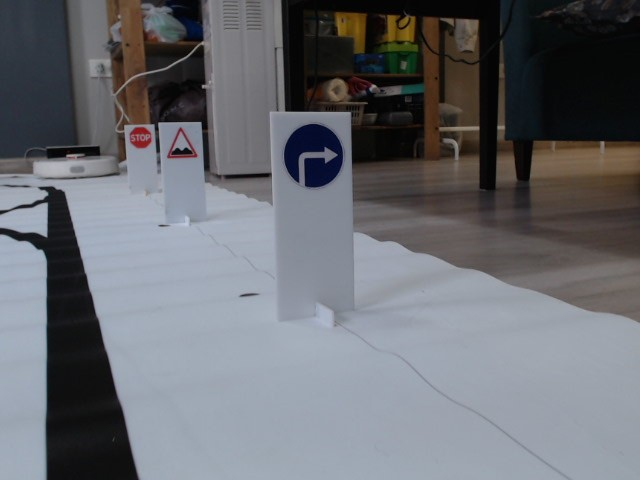Nerov: (166, 127, 197, 158)
Right: (283, 122, 344, 188)
Stop: (129, 126, 152, 148)
